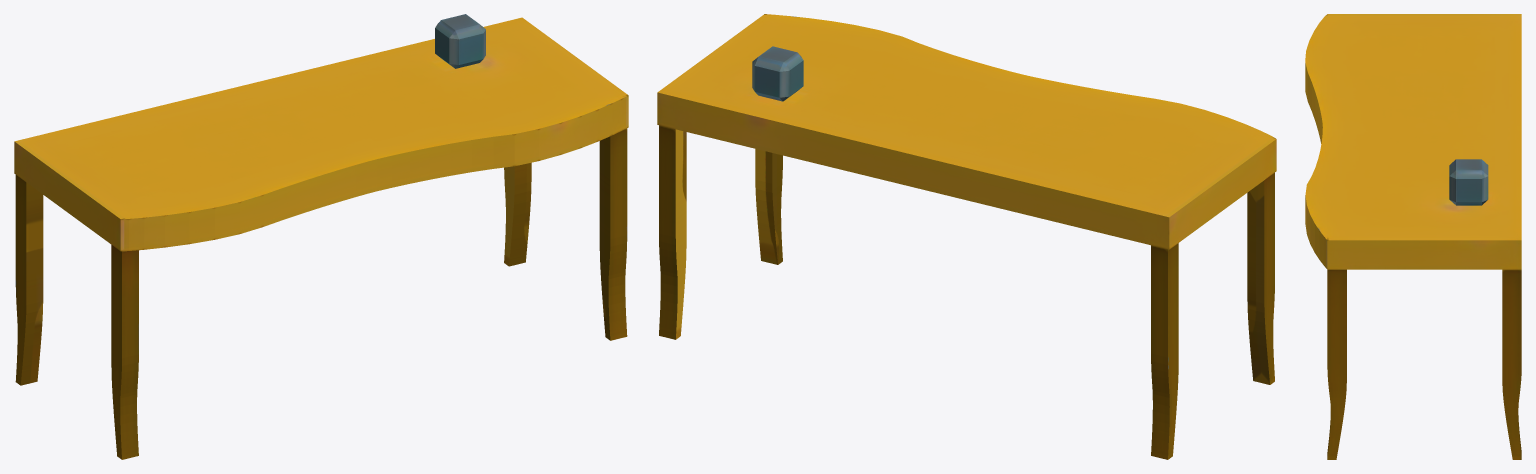
Rendered from edited_mesh.glb.
The picture shows the model from 3 angles, left to right: view 1: azimuth 30°, elevation 25°; view 2: azimuth 150°, elevation 25°; view 3: azimuth 270°, elevation 25°; orthographic projection. The views are drawn at different scales.
Visible parts, largest first — view 1: solid_001_wire; view 2: solid_001_wire; view 3: solid_001_wire.
Part boxes in pixels (x1=…): solid_001_wire: x1=14, y1=14, x2=628, y2=459; solid_001_wire: x1=657, y1=14, x2=1276, y2=459; solid_001_wire: x1=1305, y1=14, x2=1521, y2=459.
Bounding box in the file's own units: 1.95 × 1.03 × 0.7881.
1 material, 1 textured.
